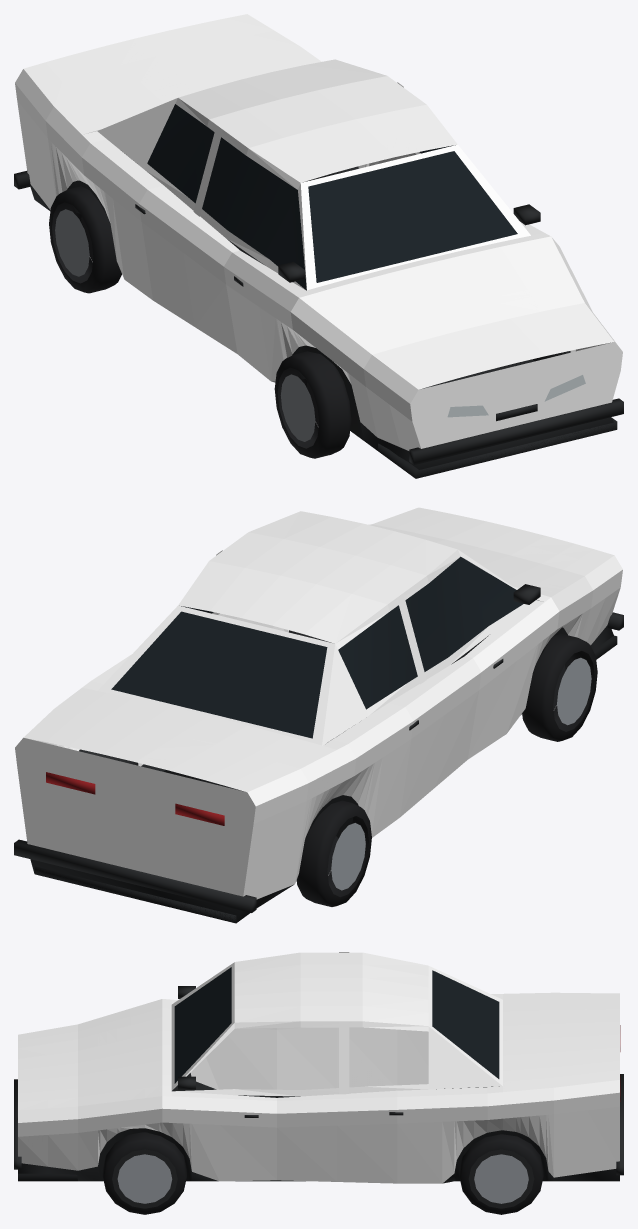
Rendered from lindauer_esteio.glb.
3 renders of one model, top to bottom at view 1: azimuth 30°, elevation 25°; view 2: azimuth 150°, elevation 25°; view 3: azimuth 270°, elevation 25°, orthographic. The views are drawn at different scales.
Parts seen in each view (by area): view 1: Body_Paint, Body_Details, Mount_FrontLeft_Wheel_Details, Mount_RearLeft_Wheel_Details; view 2: Body_Paint, Body_Details, Mount_FrontLeft_Wheel_Details, Mount_RearLeft_Wheel_Details; view 3: Body_Paint, Body_Details, Mount_FrontRight_Wheel_Details, Mount_RearRight_Wheel_Details.
Boxes of the visible parts, <box> form: Body_Paint: <box>15,14,622,450</box>; Body_Details: <box>14,104,623,478</box>; Mount_FrontLeft_Wheel_Details: <box>274,351,351,458</box>; Mount_RearLeft_Wheel_Details: <box>49,186,121,293</box>; Body_Paint: <box>15,507,622,899</box>; Body_Details: <box>14,556,623,923</box>; Mount_FrontLeft_Wheel_Details: <box>522,633,597,741</box>; Mount_RearLeft_Wheel_Details: <box>296,800,371,906</box>; Body_Paint: <box>18,952,619,1183</box>; Body_Details: <box>14,967,623,1183</box>; Mount_FrontRight_Wheel_Details: <box>102,1132,186,1214</box>; Mount_RearRight_Wheel_Details: <box>459,1134,543,1214</box>.
Bounding box in the file's own units: 1.79 × 1.41 × 4.34.
Materials: 2 (1 with a texture image).
